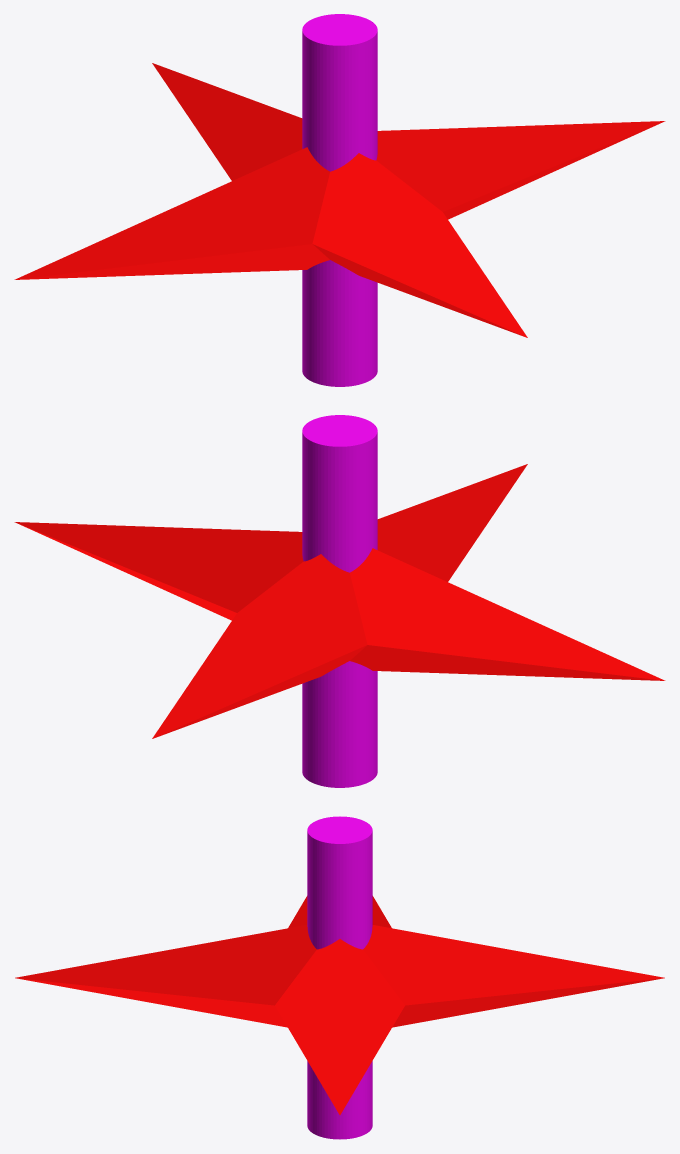
The model's file is dönen engel.fbx.
3 views of the same model, one above another, from view 1: azimuth 30°, elevation 25°; view 2: azimuth 150°, elevation 25°; view 3: azimuth 270°, elevation 25° (orthographic). The views are drawn at different scales.
Visible parts, largest first — view 1: Vert, Cylinder; view 2: Vert, Cylinder; view 3: Vert, Cylinder.
Boxes of the visible parts, left/top/right/bottom form: Vert: left=14, top=63, right=665, bottom=337; Cylinder: left=302, top=14, right=377, bottom=386; Vert: left=14, top=464, right=665, bottom=738; Cylinder: left=302, top=415, right=377, bottom=787; Vert: left=15, top=896, right=664, bottom=1114; Cylinder: left=307, top=816, right=372, bottom=1139.
Size of the model in its own units: 1000 by 500 by 1000.
2 materials, 2 textured.
